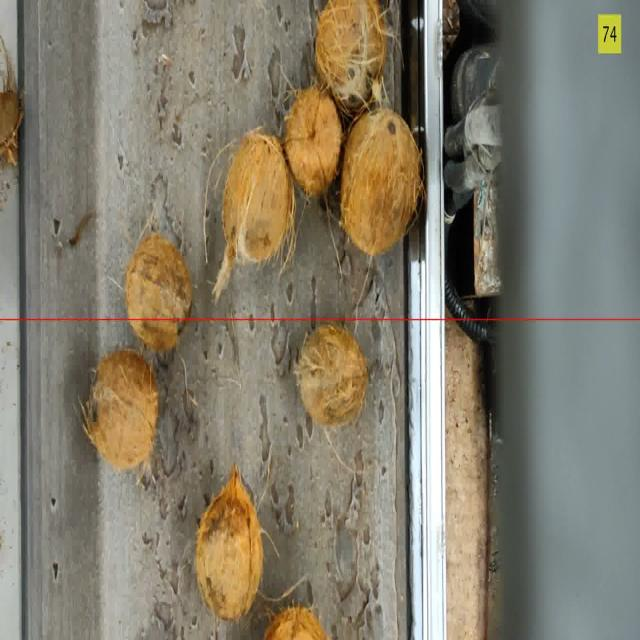Coconut-Conveyor-Belt: (214, 132, 295, 299), (341, 109, 424, 255), (196, 466, 262, 621), (86, 350, 158, 469), (315, 0, 386, 111), (125, 234, 192, 351), (297, 323, 367, 427), (285, 85, 342, 193), (0, 37, 23, 165), (265, 607, 327, 639)
